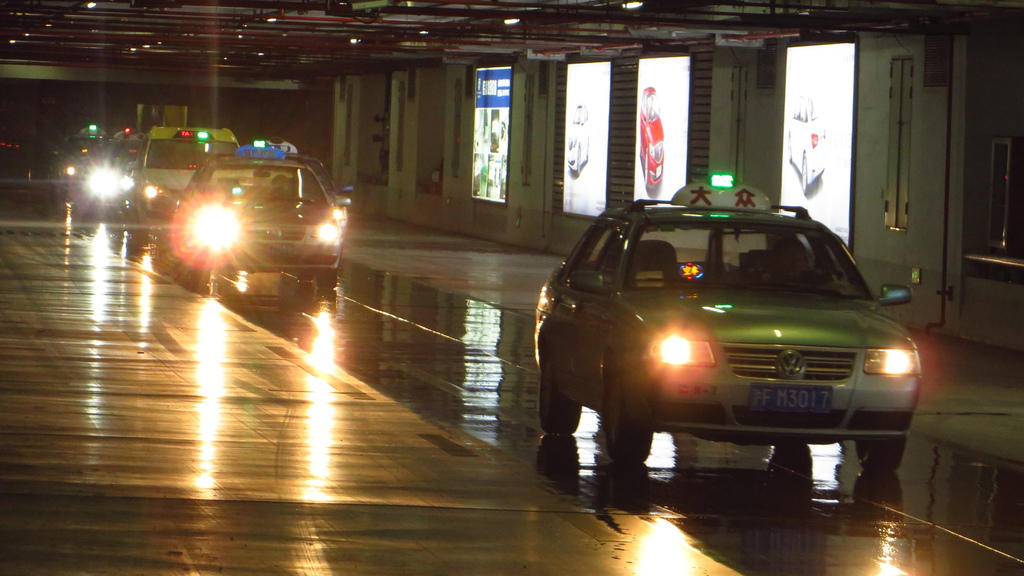Car: (531, 170, 922, 472), (169, 144, 352, 287), (211, 138, 352, 265), (126, 126, 238, 224), (49, 124, 110, 199), (784, 90, 825, 193), (106, 126, 149, 214), (638, 85, 664, 189), (565, 102, 590, 176)
